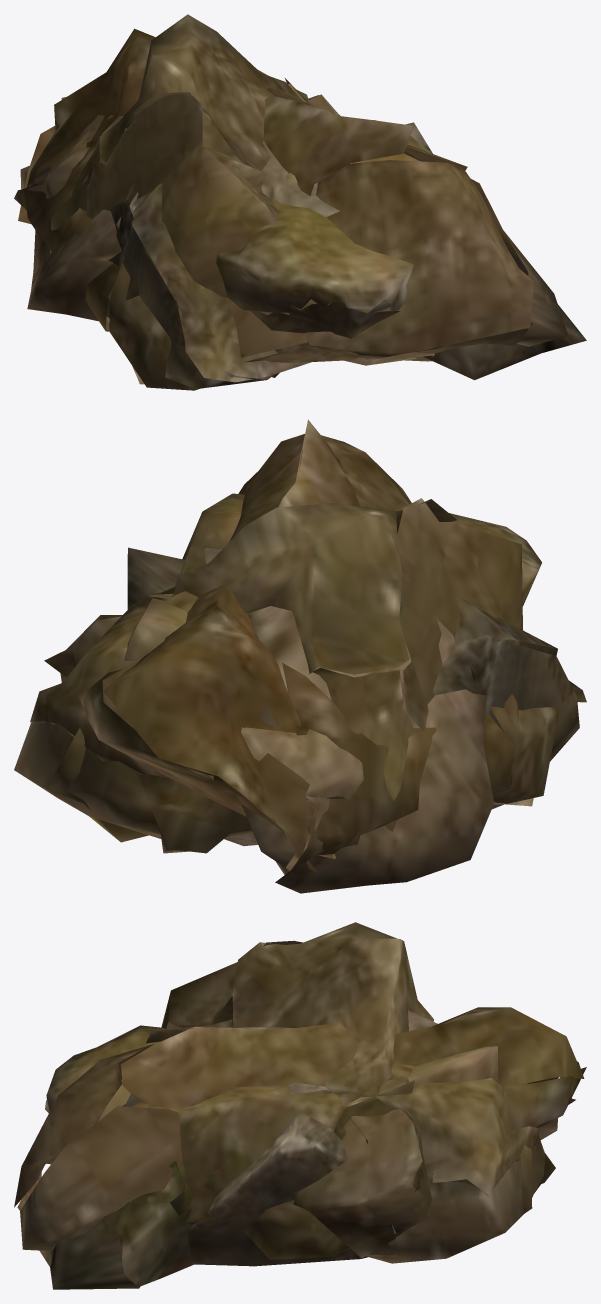
File: ph_moss_boulder.glb
3 views of the same model, one above another, from view 1: azimuth 30°, elevation 25°; view 2: azimuth 150°, elevation 25°; view 3: azimuth 270°, elevation 25° (orthographic). The views are drawn at different scales.
Parts seen in each view (by area): view 1: rock_moss_set_01_rock01, rock_moss_set_01_rock04, rock_moss_set_01_rock05, rock_moss_set_01_rock03, rock_moss_set_01_rock02, rock_moss_set_01_rock06; view 2: rock_moss_set_01_rock01, rock_moss_set_01_rock04, rock_moss_set_01_rock05, rock_moss_set_01_rock02, rock_moss_set_01_rock03, rock_moss_set_01_rock06; view 3: rock_moss_set_01_rock01, rock_moss_set_01_rock04, rock_moss_set_01_rock05, rock_moss_set_01_rock06, rock_moss_set_01_rock02, rock_moss_set_01_rock03.
Boxes of the visible parts, left/top/right/bottom form: rock_moss_set_01_rock01: left=18, top=28, right=568, bottom=390; rock_moss_set_01_rock04: left=50, top=14, right=340, bottom=307; rock_moss_set_01_rock05: left=46, top=90, right=413, bottom=360; rock_moss_set_01_rock03: left=110, top=122, right=432, bottom=388; rock_moss_set_01_rock02: left=14, top=115, right=586, bottom=380; rock_moss_set_01_rock06: left=257, top=69, right=434, bottom=365; rock_moss_set_01_rock01: left=79, top=419, right=559, bottom=873; rock_moss_set_01_rock04: left=44, top=498, right=523, bottom=833; rock_moss_set_01_rock05: left=14, top=513, right=541, bottom=853; rock_moss_set_01_rock02: left=204, top=548, right=494, bottom=893; rock_moss_set_01_rock03: left=127, top=547, right=586, bottom=846; rock_moss_set_01_rock06: left=47, top=493, right=244, bottom=842; rock_moss_set_01_rock01: left=14, top=1007, right=586, bottom=1256; rock_moss_set_01_rock04: left=161, top=922, right=433, bottom=1258; rock_moss_set_01_rock05: left=45, top=1025, right=555, bottom=1263; rock_moss_set_01_rock06: left=122, top=1046, right=532, bottom=1259; rock_moss_set_01_rock02: left=40, top=1010, right=575, bottom=1289; rock_moss_set_01_rock03: left=187, top=1019, right=367, bottom=1266.
Bounding box in the file's own units: 2.58 × 1.76 × 3.37.
Materials: 1 (1 with a texture image).
